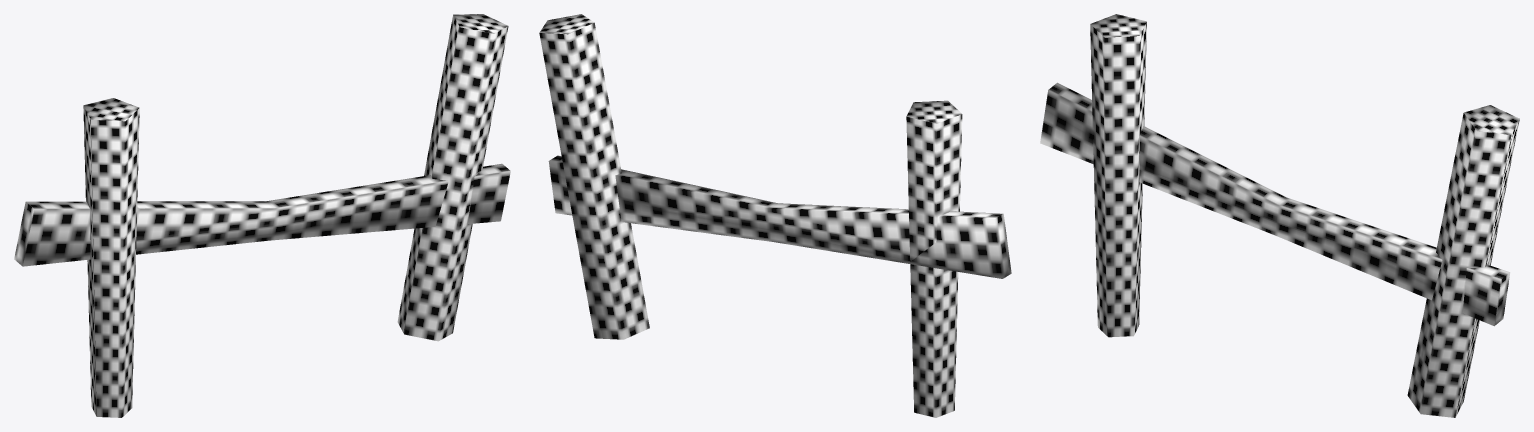
The model's file is Cerca_03.obj.
The picture shows the model from 3 angles, left to right: view 1: azimuth 30°, elevation 25°; view 2: azimuth 150°, elevation 25°; view 3: azimuth 330°, elevation 25°; orthographic projection.
Parts seen in each view (by area): view 1: Cerca_03; view 2: Cerca_03; view 3: Cerca_03.
Boxes of the visible parts, bbox=[...] form: Cerca_03: bbox=[14, 14, 510, 417]; Cerca_03: bbox=[539, 14, 1011, 417]; Cerca_03: bbox=[1040, 14, 1519, 417].
Bounding box in the file's own units: 36.11 × 22 × 3.72.
1 material, 1 textured.
